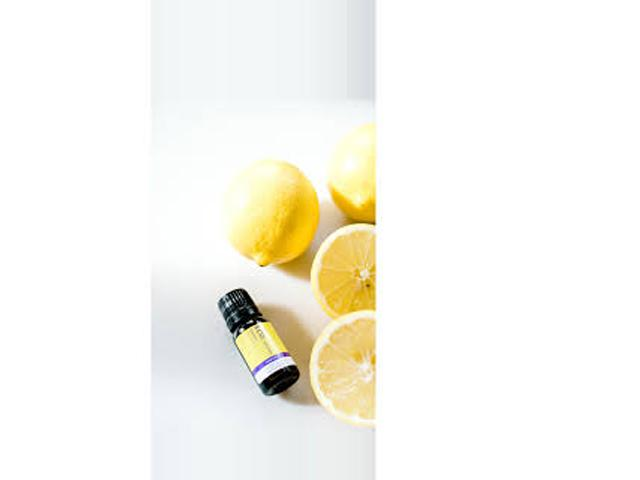lemon: (233, 156, 308, 265)
